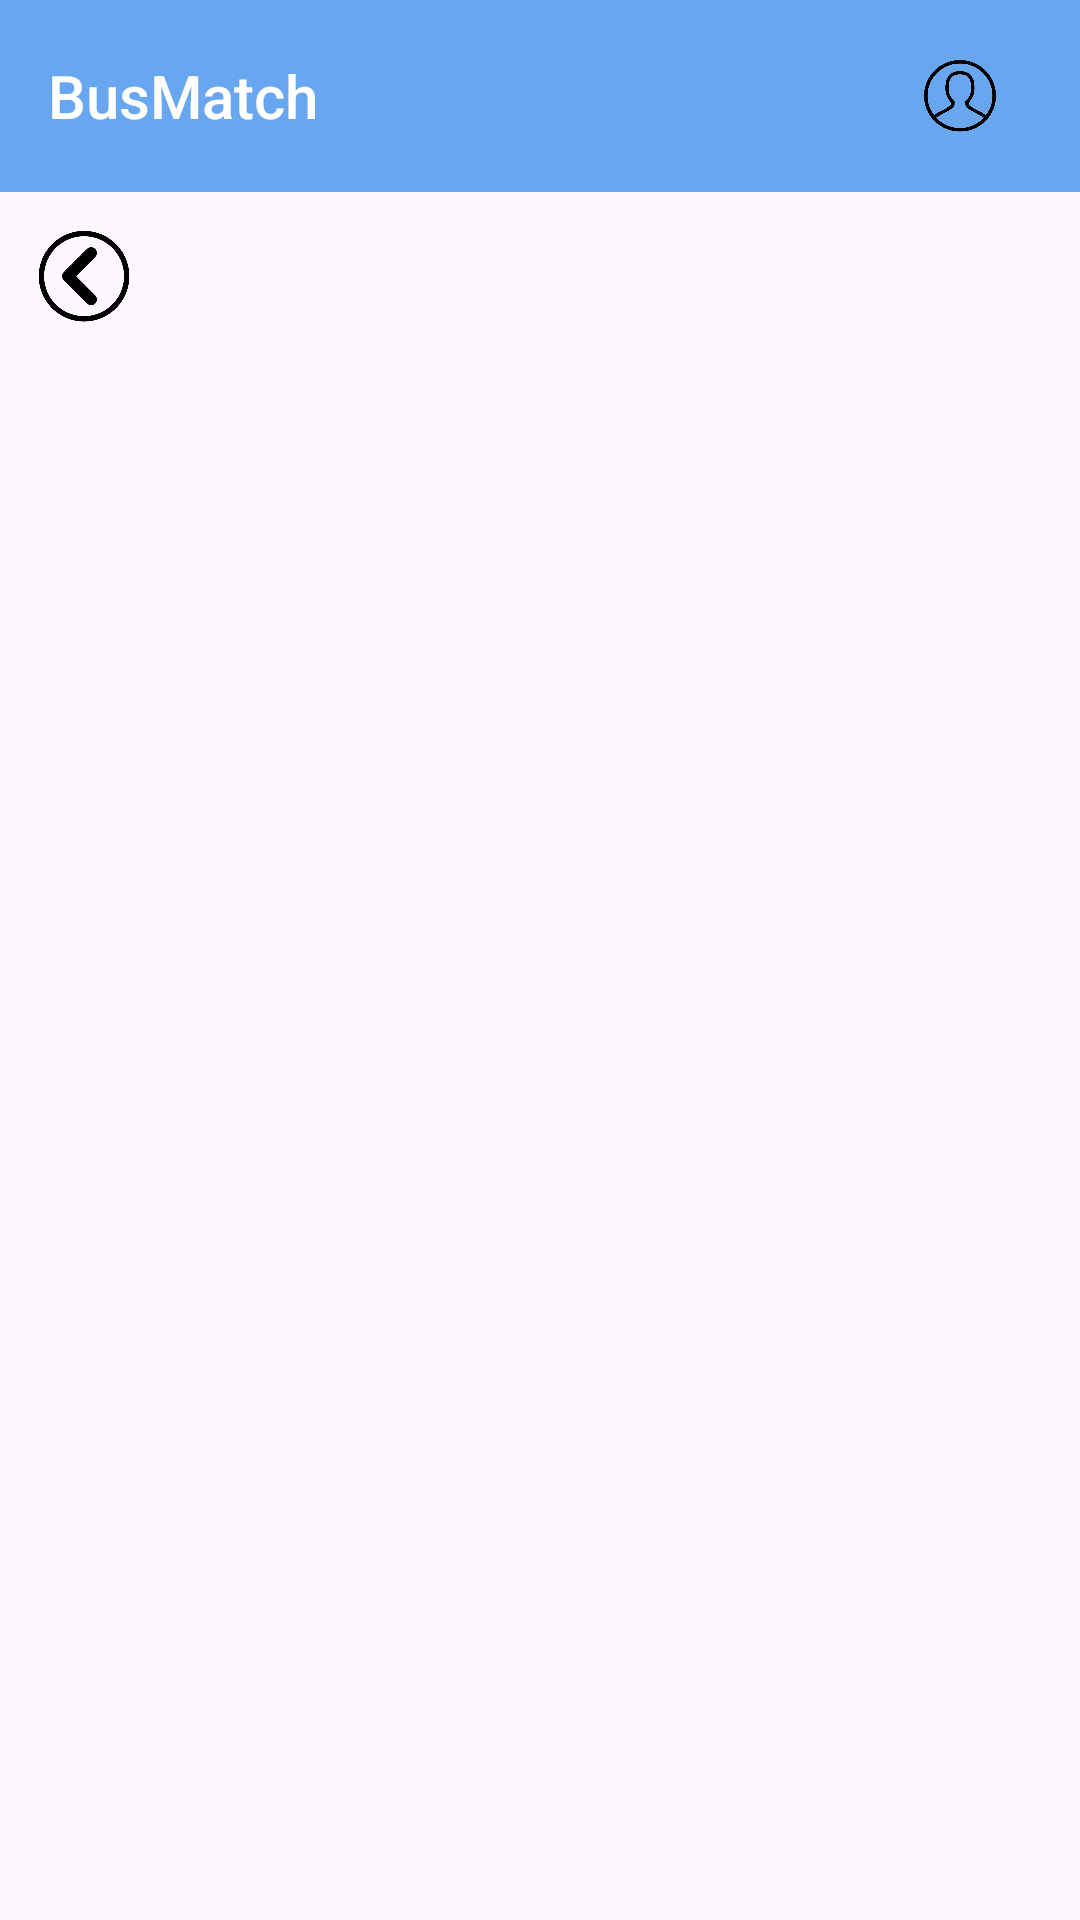

Screen size 1080x1920. Icon name, then its center in pixels as [x,y]:
back: [84,276]
mypage: [960,96]
